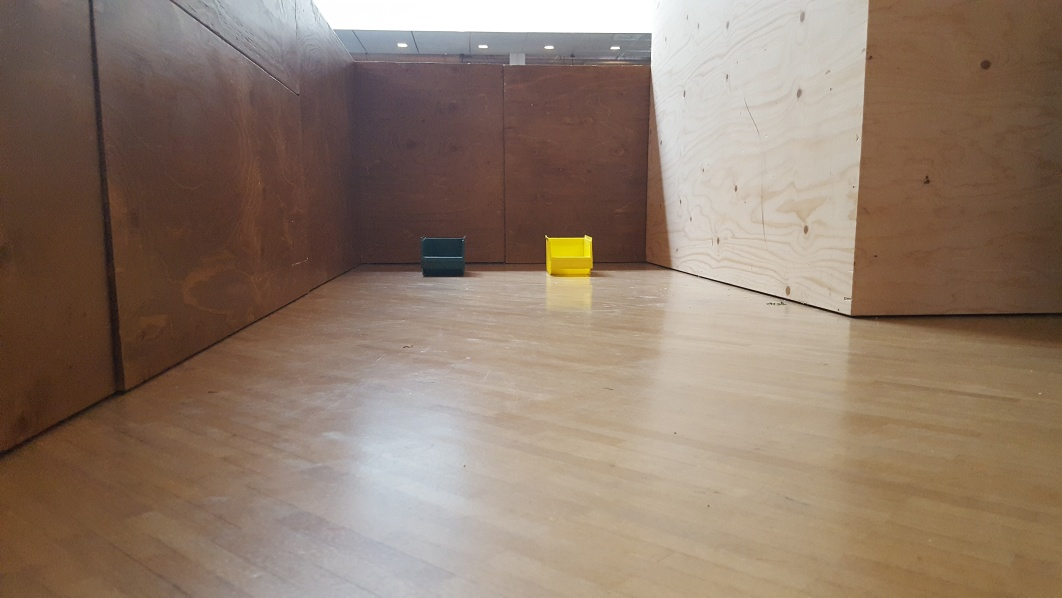tray: (536, 232, 600, 277), (417, 231, 467, 276)
